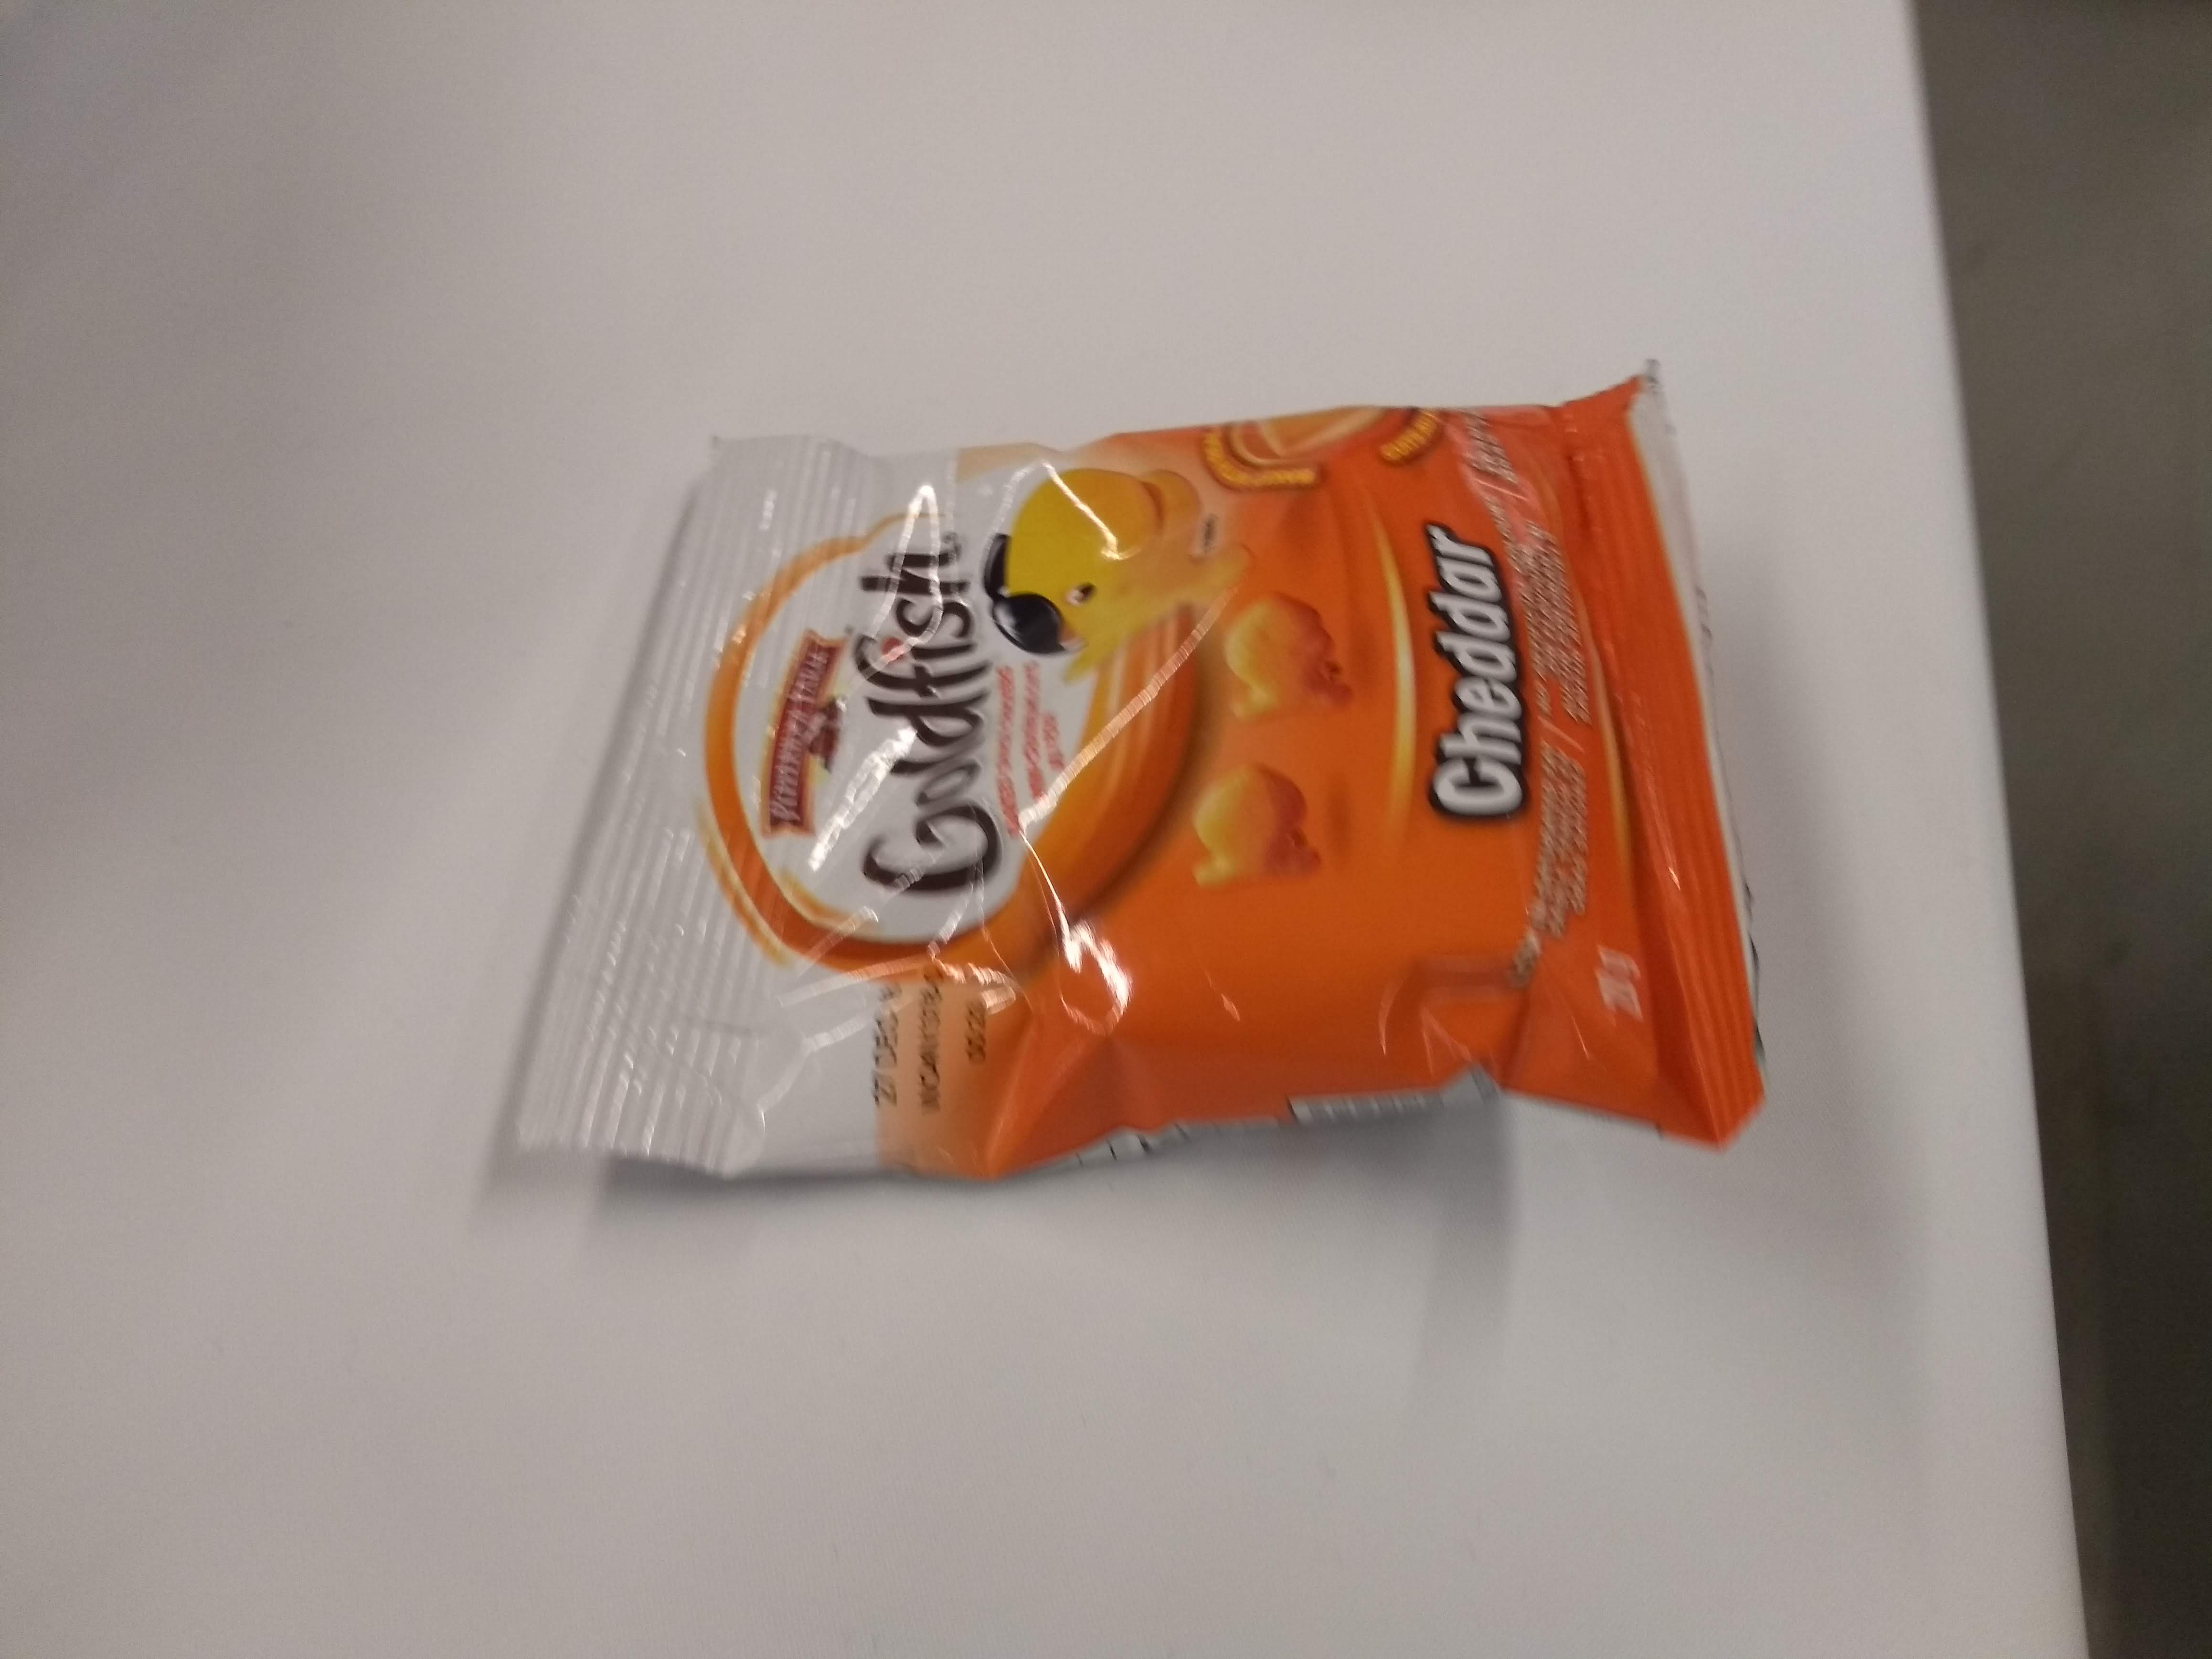crackers: (482, 342, 1789, 1241)
